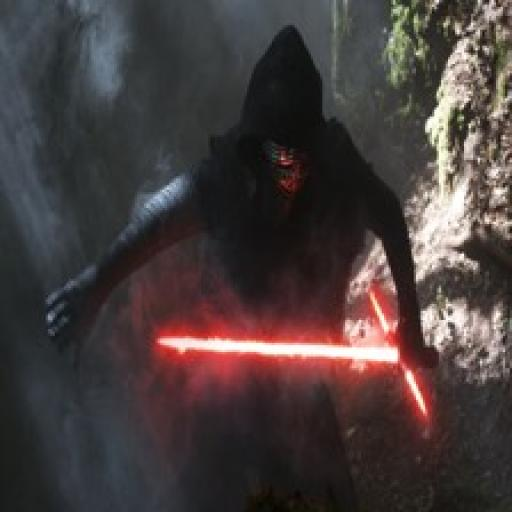human: (31, 26, 432, 512)
sith saber: (146, 274, 452, 432)
